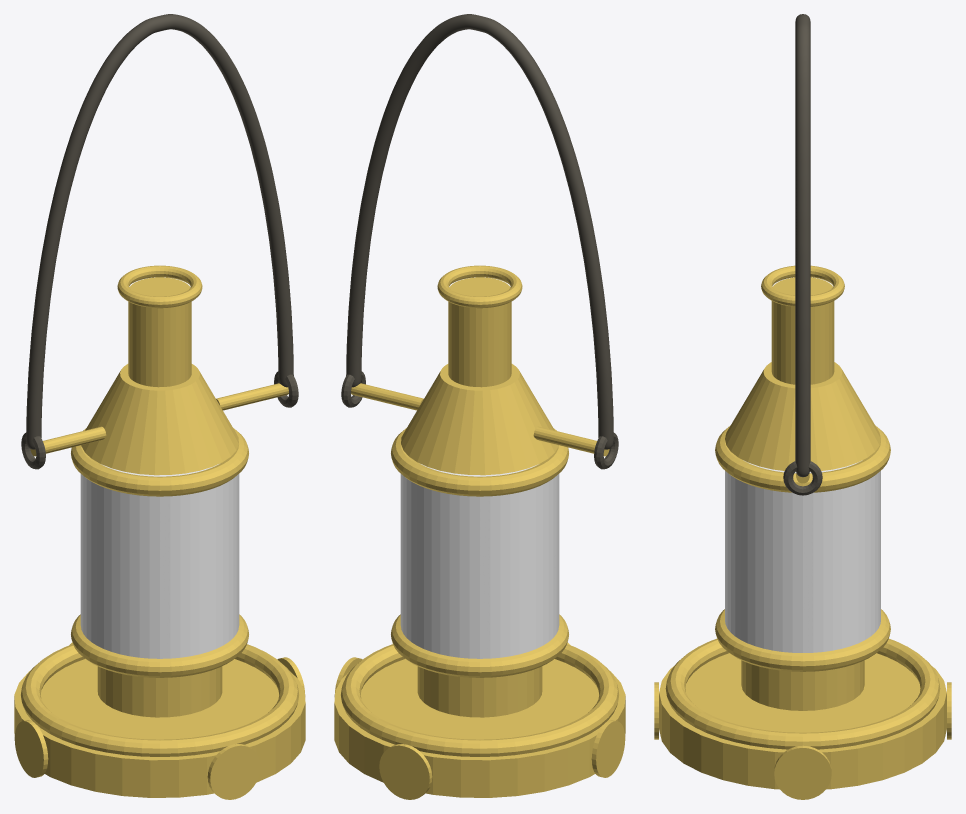
The model's file is farol_de_aceite.glb.
3 renders of one model, left to right at view 1: azimuth 30°, elevation 25°; view 2: azimuth 150°, elevation 25°; view 3: azimuth 270°, elevation 25°, orthographic.
Visible parts, largest first — view 1: GlassGlobe, Base, WireHandle, TopCone, BaseRing, Chimney, Neck, RingHi, RingLo, LionCrest_270, ChimneyRing, LionCrest_180 (+3 smaller); view 2: GlassGlobe, Base, WireHandle, TopCone, BaseRing, Chimney, Neck, RingHi, RingLo, LionCrest_90, ChimneyRing, LionCrest_180 (+3 smaller); view 3: GlassGlobe, Base, TopCone, BaseRing, WireHandle, Neck, Chimney, RingLo, RingHi, LionCrest_0, ChimneyRing, HingeL.
Boxes of the visible parts, bbox=[...] form: GlassGlobe: bbox=[80, 464, 239, 658]; Base: bbox=[14, 659, 305, 797]; WireHandle: bbox=[26, 14, 293, 449]; TopCone: bbox=[81, 364, 238, 475]; BaseRing: bbox=[21, 644, 298, 756]; Chimney: bbox=[128, 277, 191, 387]; Neck: bbox=[97, 666, 222, 717]; RingHi: bbox=[71, 428, 248, 496]; RingLo: bbox=[71, 614, 248, 677]; LionCrest_270: bbox=[207, 744, 260, 799]; ChimneyRing: bbox=[117, 265, 202, 308]; LionCrest_180: bbox=[14, 720, 48, 777]; GlassGlobe: bbox=[400, 464, 559, 658]; Base: bbox=[334, 659, 625, 797]; WireHandle: bbox=[346, 14, 613, 449]; TopCone: bbox=[401, 364, 558, 475]; BaseRing: bbox=[341, 644, 618, 756]; Chimney: bbox=[448, 277, 511, 387]; Neck: bbox=[417, 666, 542, 717]; RingHi: bbox=[391, 428, 568, 496]; RingLo: bbox=[391, 614, 568, 677]; LionCrest_90: bbox=[379, 744, 432, 799]; ChimneyRing: bbox=[437, 265, 522, 308]; LionCrest_180: bbox=[591, 720, 625, 777]; GlassGlobe: bbox=[725, 460, 880, 652]; Base: bbox=[659, 653, 946, 789]; TopCone: bbox=[725, 362, 880, 470]; BaseRing: bbox=[665, 638, 940, 749]; WireHandle: bbox=[795, 14, 810, 477]; Neck: bbox=[741, 660, 864, 710]; Chimney: bbox=[771, 277, 834, 384]; RingLo: bbox=[715, 609, 890, 671]; RingHi: bbox=[715, 425, 890, 492]; LionCrest_0: bbox=[774, 745, 831, 799]; ChimneyRing: bbox=[761, 265, 844, 306]; HingeL: bbox=[783, 461, 822, 495].
Bounding box in the file's own units: 0.3678 × 0.9626 × 0.362.
